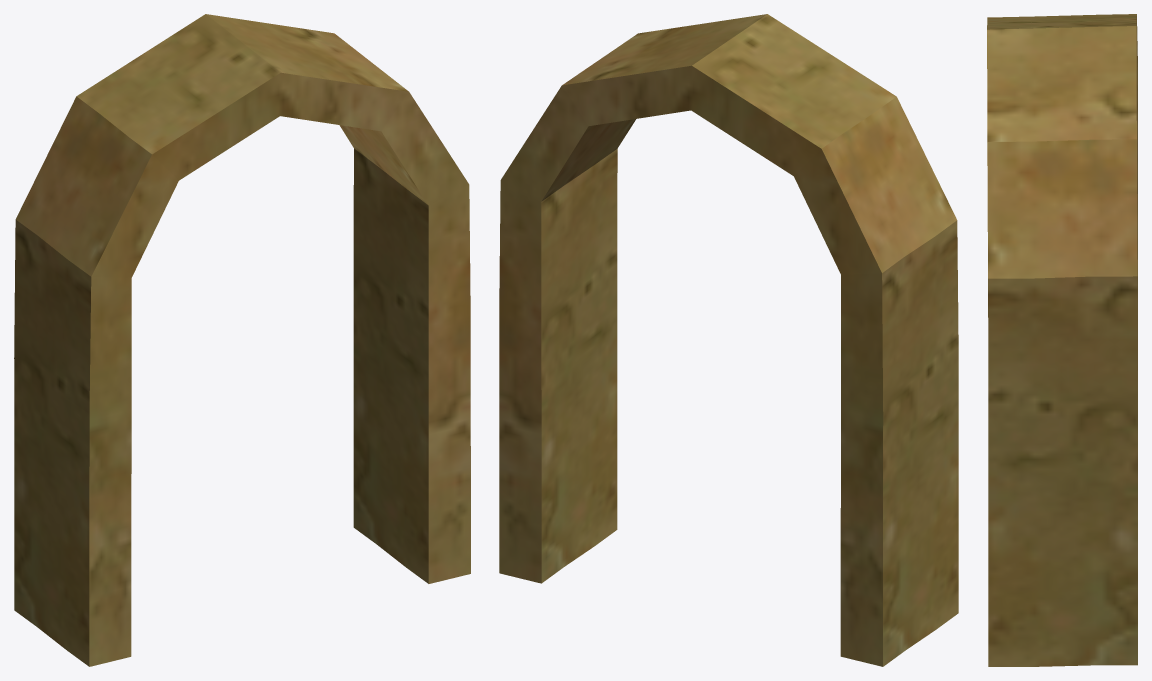
File: outsideDoorLevel2.fbx
3 views of the same model, side by side, from view 1: azimuth 30°, elevation 25°; view 2: azimuth 150°, elevation 25°; view 3: azimuth 270°, elevation 25° (orthographic).
Visible parts, largest first — view 1: marco puerta.001; view 2: marco puerta.001; view 3: marco puerta.001.
Boxes of the visible parts, left/top/right/bottom form: marco puerta.001: left=14, top=14, right=470, bottom=666; marco puerta.001: left=499, top=14, right=958, bottom=666; marco puerta.001: left=987, top=14, right=1137, bottom=666.
Size of the model in its own units: 195 by 270 by 67.26.
